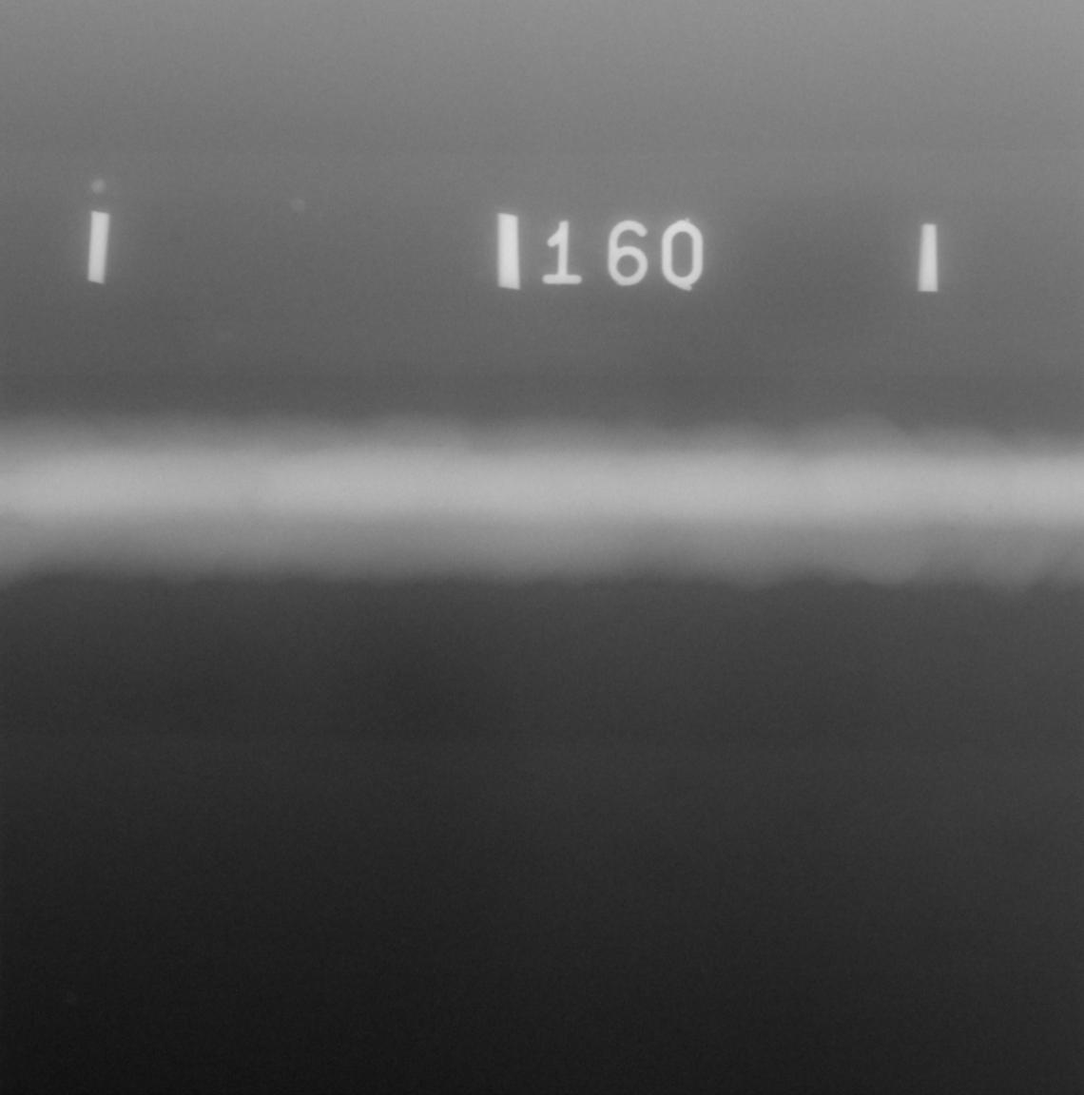Pore/Porosity: (963, 514, 968, 519), (988, 505, 993, 510), (951, 526, 955, 531)
